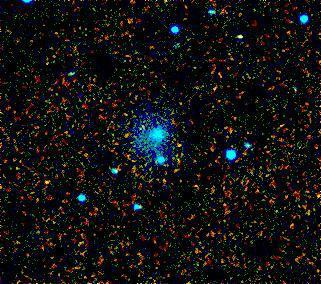star: (162, 129, 192, 159)
